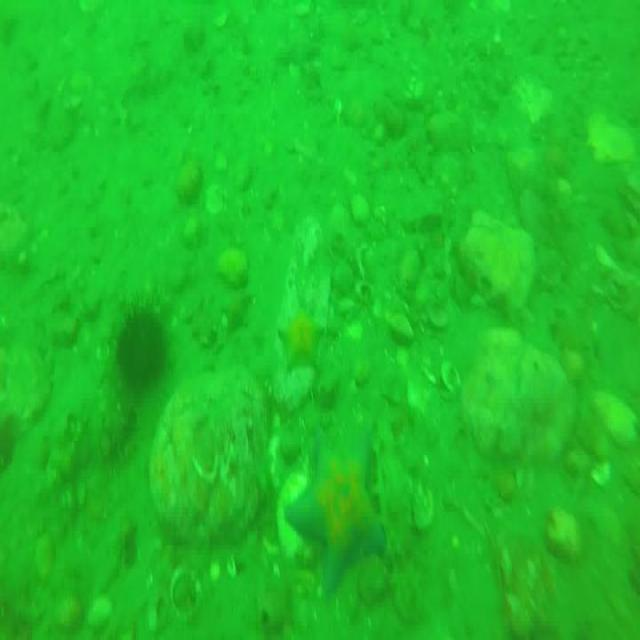echinus: (116, 299, 164, 387)
scallop: (272, 474, 308, 563), (170, 569, 203, 619), (442, 364, 465, 395), (391, 312, 413, 342), (423, 302, 447, 329), (358, 276, 378, 306), (354, 196, 371, 226)
starfish: (284, 424, 385, 594), (276, 302, 322, 378)
